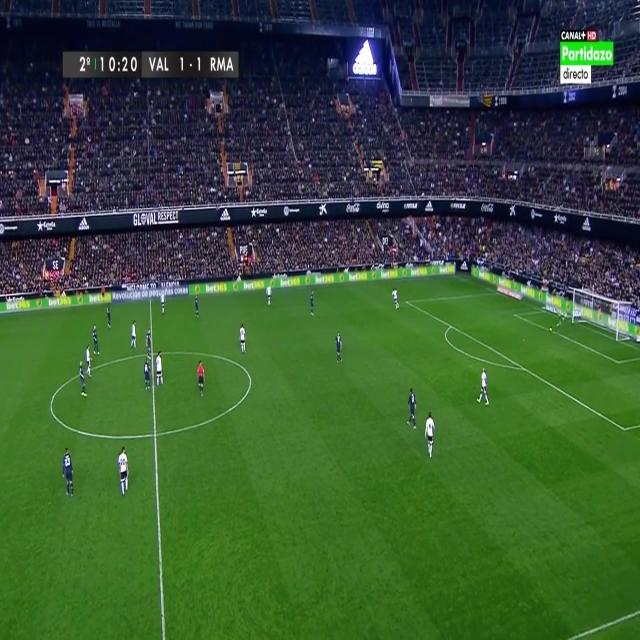Ball: (547, 325, 554, 334)
Player: (60, 446, 76, 499), (422, 410, 438, 461), (118, 442, 132, 498), (476, 366, 492, 407), (404, 387, 418, 432), (154, 348, 166, 391), (333, 331, 345, 365), (129, 318, 139, 352), (85, 343, 94, 379), (144, 326, 153, 362), (238, 322, 248, 354), (78, 359, 86, 398), (143, 356, 151, 394), (389, 286, 401, 311), (92, 322, 100, 359), (308, 289, 317, 319), (104, 302, 112, 332), (194, 295, 202, 322), (159, 290, 167, 315), (264, 284, 272, 308)
Referee: (196, 360, 208, 401), (100, 279, 106, 308)
